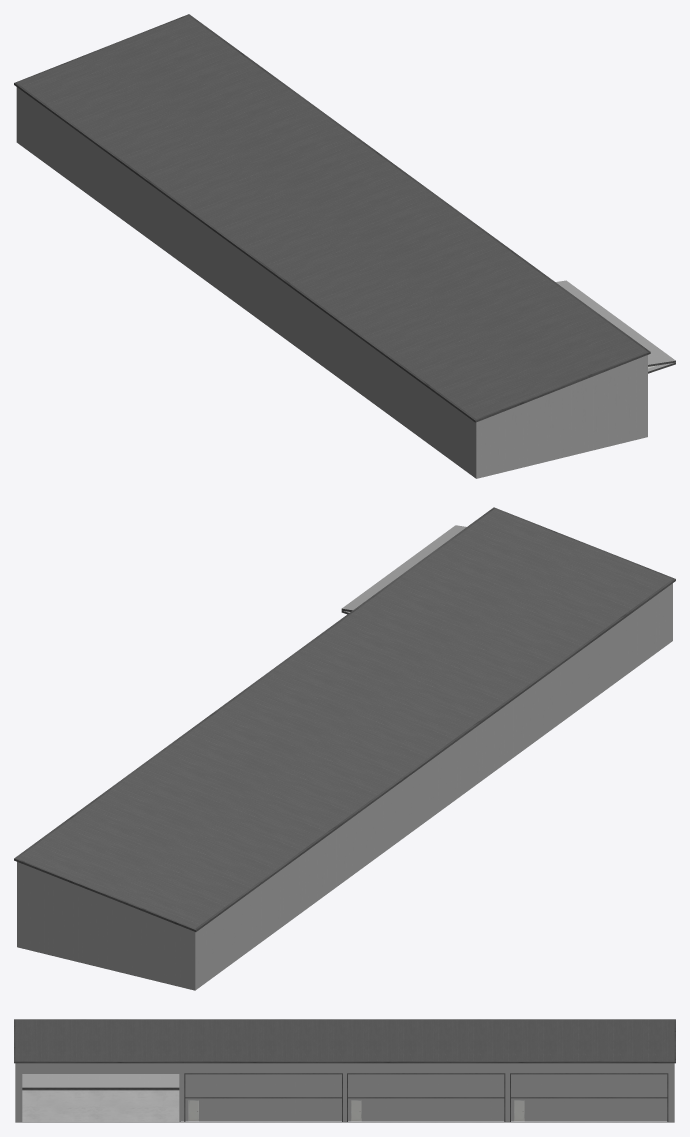
File: gen_open_hangar07-65x14x5-cbj_LOD02.gltf
3 views of the same model, one above another, from view 1: azimuth 30°, elevation 25°; view 2: azimuth 150°, elevation 25°; view 3: azimuth 270°, elevation 25° (orthographic). The views are drawn at different scales.
Parts seen in each view (by area): view 1: Cube.015; view 2: Cube.015; view 3: Cube.015.
Boxes of the visible parts, bbox=[...] form: Cube.015: bbox=[14, 14, 675, 478]; Cube.015: bbox=[14, 507, 675, 990]; Cube.015: bbox=[14, 1019, 675, 1122].
Size of the model in its own units: 16.84 by 6.68 by 65.28.
